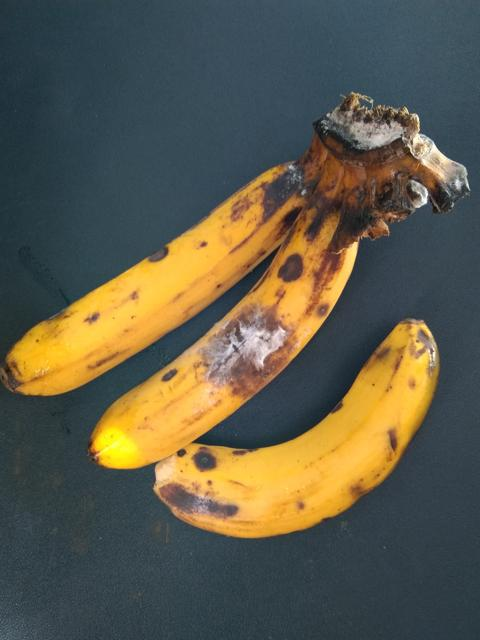ripe: (3, 130, 309, 393), (143, 318, 458, 547)
rotten: (82, 222, 365, 482)
